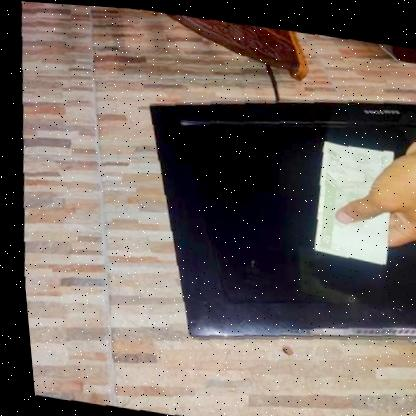fifty-back-vef: (300, 133, 399, 262)
